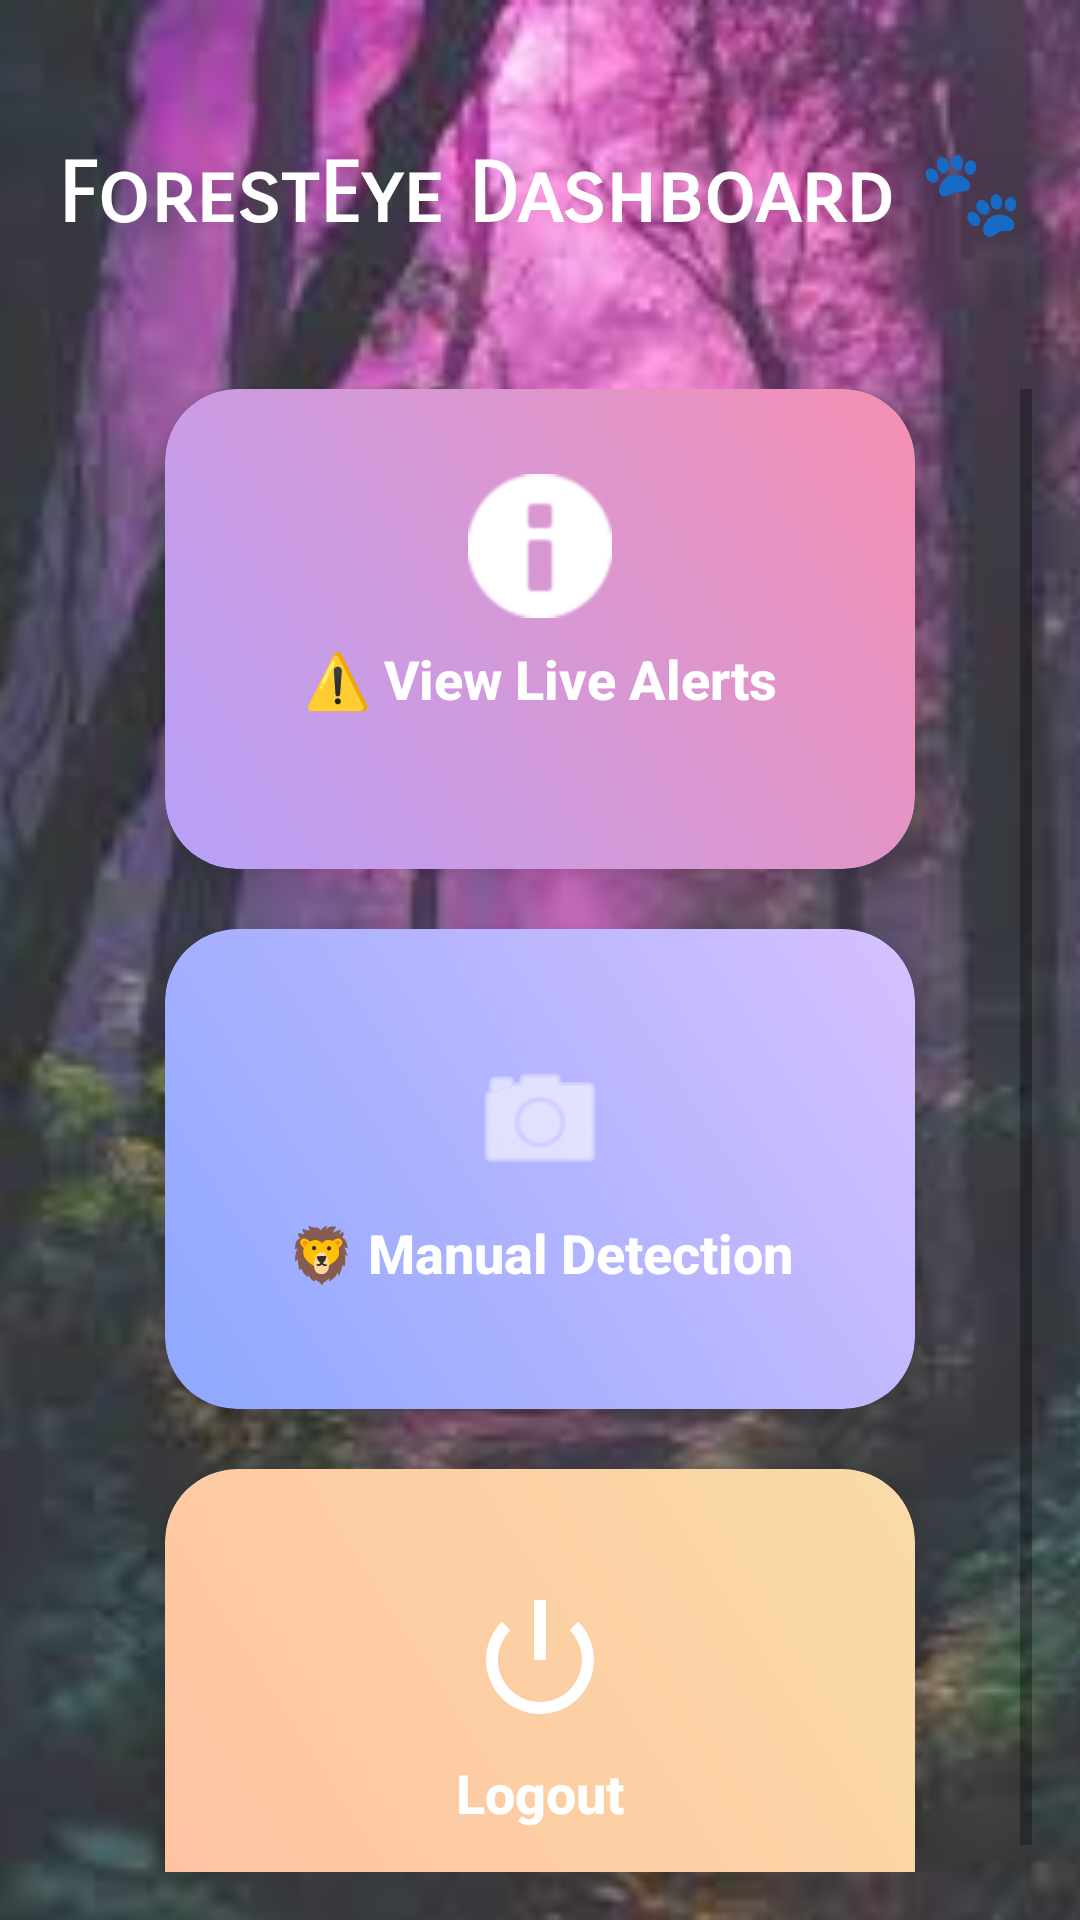

Screen size 1080px x 1920px. Icon name, then its box in pixels as (x1, y1, x2, y2):
camera: (486, 1074, 595, 1161)
info: (468, 474, 612, 618)
lock power off: (486, 1600, 594, 1714)
